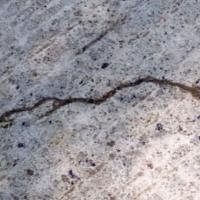crack: (0, 69, 199, 154)
